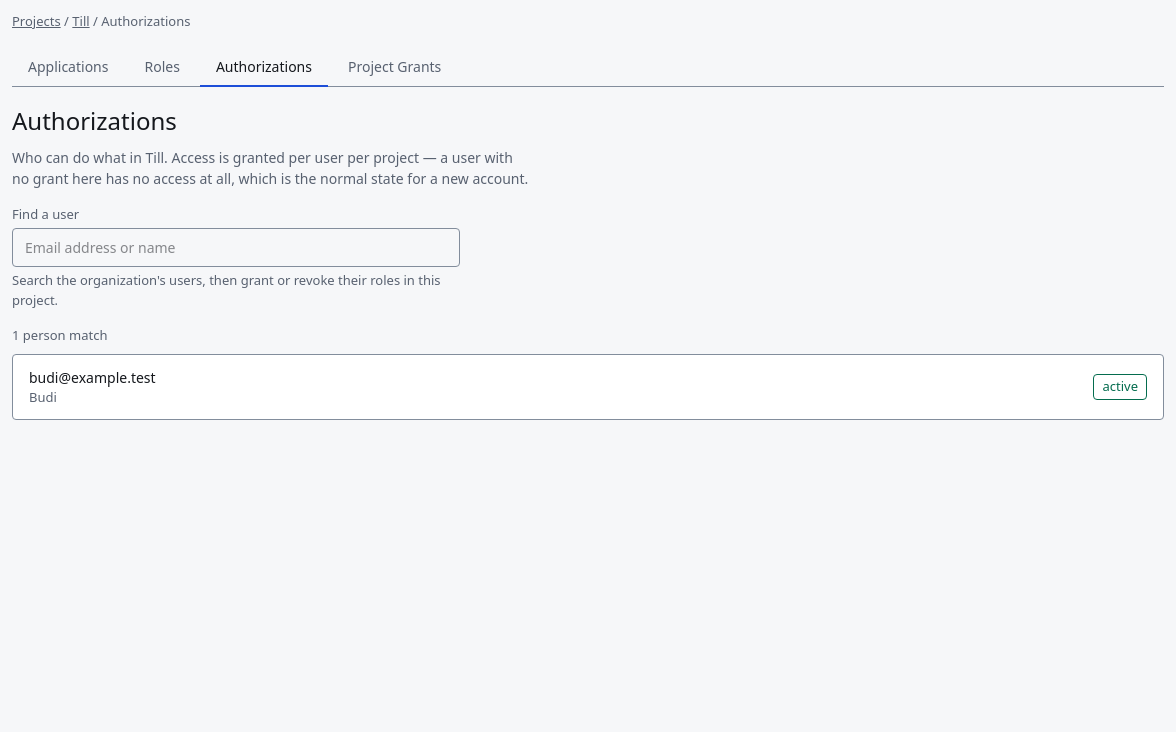
Scenario: a user's access to the project › states no access explicitly rather than leaving a blank
Type "budi" into the search field labelled "Find a user" at (236, 248), box [12,228,460,267]
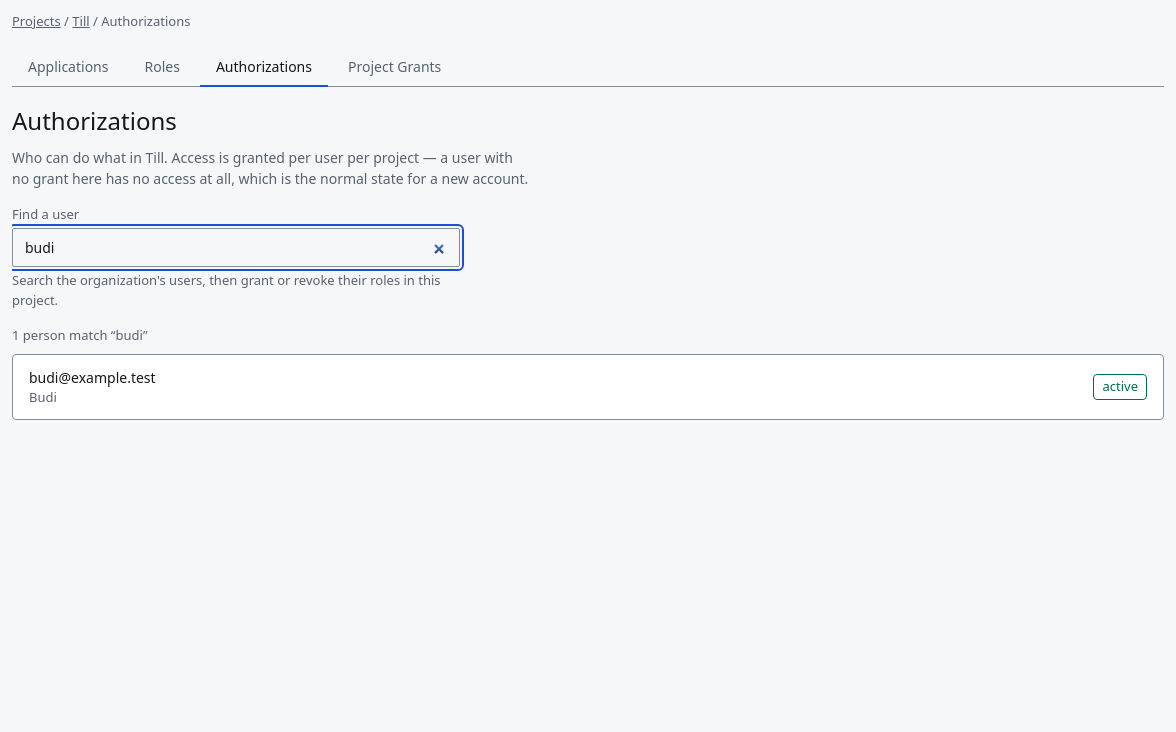
Click the button "budi@example.test Budi active" at (92, 377), box [13,354,1163,419]
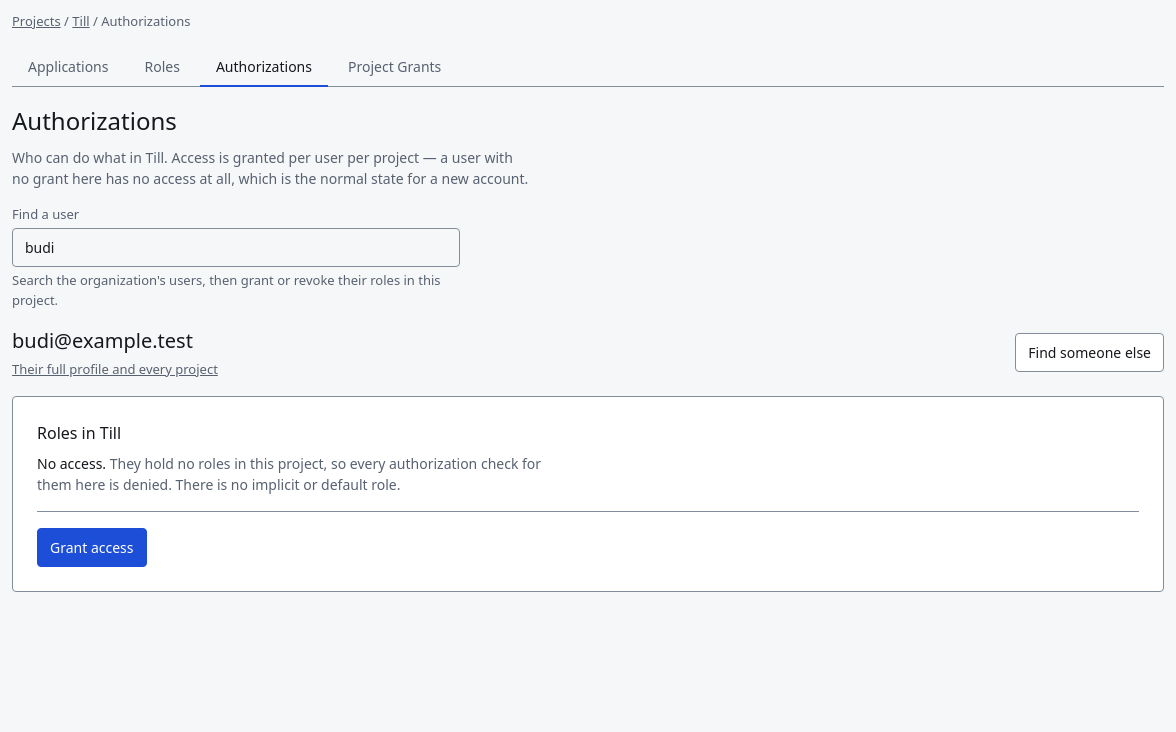
Now the text "No access." is shown, box [37,454,106,472]
Now the text "no implicit or default role" is shown, box [37,454,541,494]
